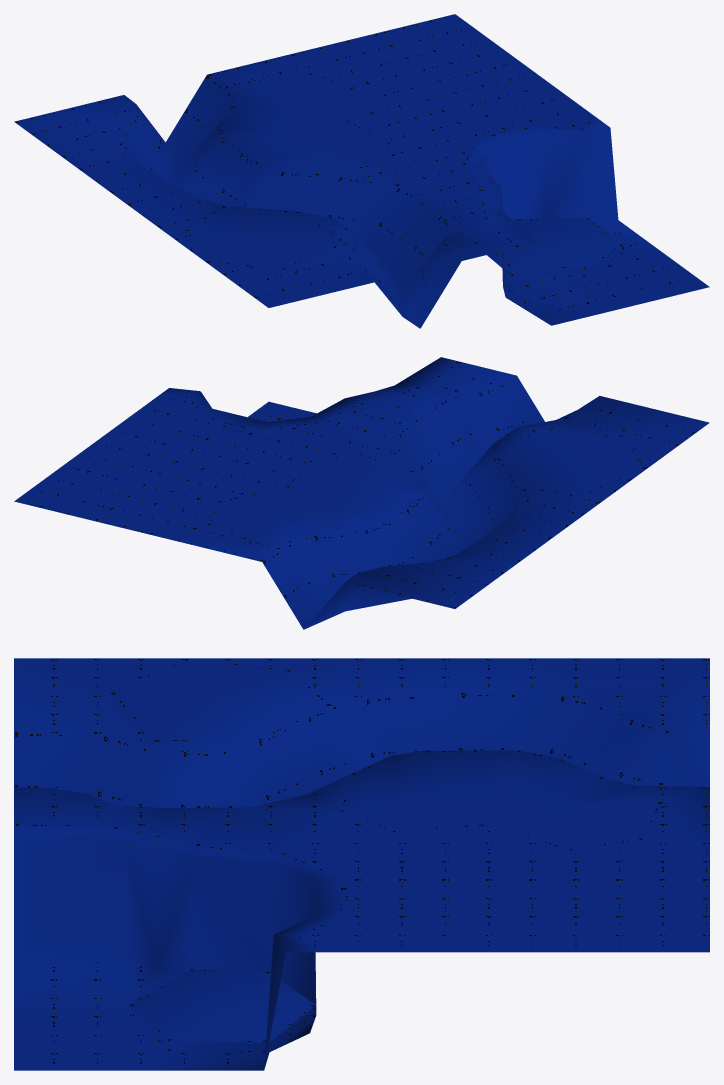
Rendered from GRD_S_C4_R1_2.fbx.
3 renders of one model, top to bottom at view 1: azimuth 30°, elevation 25°; view 2: azimuth 150°, elevation 25°; view 3: azimuth 270°, elevation 25°, orthographic. The views are drawn at different scales.
Visible parts, largest first — view 1: material_00022000, material_C0032000, material_C0042000, material_00052000, material_C0012000, material_C0062000; view 2: material_00022000, material_C0032000, material_C0042000, material_00052000; view 3: material_00022000, material_C0032000, material_00052000, material_C0042000, material_C0012000, material_C0062000.
Part boxes in pixels (x1,y1,x2,y2): material_00022000: (14, 14, 709, 325); material_C0032000: (122, 75, 461, 328); material_C0042000: (185, 73, 390, 269); material_00052000: (462, 119, 618, 285); material_C0012000: (493, 218, 623, 268); material_C0062000: (487, 249, 623, 276); material_00022000: (14, 362, 709, 608); material_C0032000: (262, 376, 544, 629); material_C0042000: (208, 429, 645, 544); material_00052000: (157, 357, 461, 430); material_00022000: (14, 658, 709, 1070); material_C0032000: (14, 692, 709, 807); material_00052000: (14, 823, 349, 1068); material_C0042000: (110, 658, 662, 850); material_C0012000: (129, 969, 315, 1042); material_C0062000: (128, 1011, 315, 1052).
Size of the model in its own units: 12800 by 2400 by 12800.
